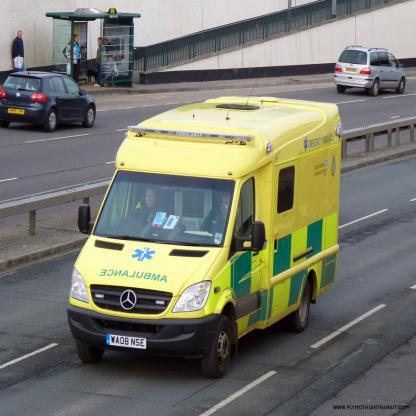Ambulance - v1 Ambulance last generate: (65, 78, 342, 380)
